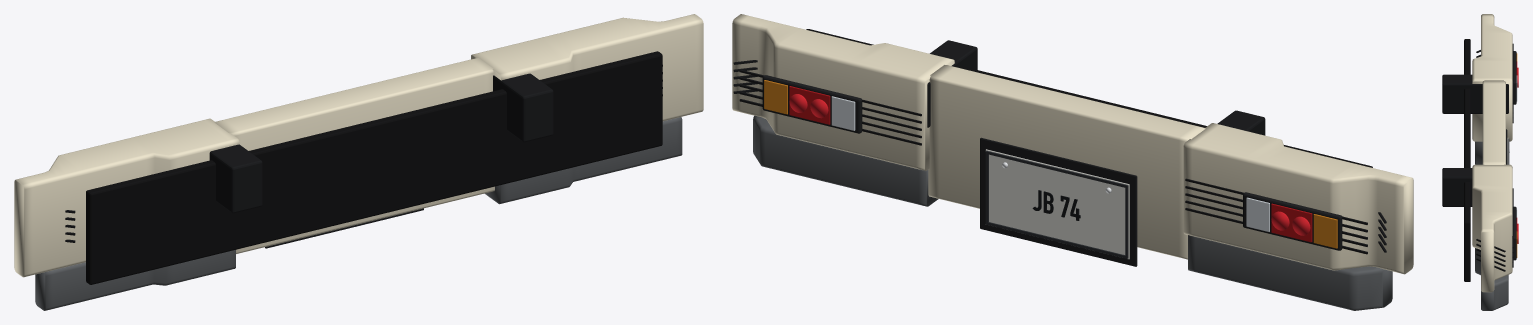
The model's file is rearBumper_damd_delta_rear.glb.
The picture shows the model from 3 angles, left to right: view 1: azimuth 30°, elevation 25°; view 2: azimuth 150°, elevation 25°; view 3: azimuth 270°, elevation 25°; orthographic projection. The views are drawn at different scales.
Visible parts, largest first — view 1: valance.003, block-1.001, centre, block1.001, lip-1, lip1, mount1.003, mount-1.003; view 2: centre, block-1.001, block1.001, plate.006, lip-1, lip1, plateRecess, grooves1, grooves-1, lampCase-1, lampCase1, valance.003 (+11 smaller); view 3: block1.001, block-1.001, centre, valance.003, mount-1.003, mount1.003, lip1, grooves1, lampCase1, lampCase-1, lip-1, grooves-1 (+1 smaller).
Boxes of the visible parts, left/top/right/bottom form: valance.003: left=86, top=51, right=662, bottom=284; block-1.001: left=14, top=118, right=239, bottom=277; centre: left=214, top=58, right=494, bottom=253; block1.001: left=471, top=14, right=703, bottom=121; lip-1: left=35, top=250, right=235, bottom=310; lip1: left=485, top=117, right=682, bottom=204; mount1.003: left=493, top=73, right=553, bottom=142; mount-1.003: left=209, top=144, right=262, bottom=213; centre: left=928, top=65, right=1205, bottom=259; block-1.001: left=1183, top=123, right=1413, bottom=274; block1.001: left=732, top=14, right=954, bottom=170; plate.006: left=985, top=149, right=1129, bottom=259; lip-1: left=1188, top=235, right=1392, bottom=310; lip1: left=753, top=115, right=938, bottom=206; plateRecess: left=980, top=137, right=1137, bottom=266; grooves1: left=733, top=60, right=921, bottom=145; grooves-1: left=1185, top=178, right=1386, bottom=254; lampCase-1: left=1243, top=192, right=1342, bottom=250; lampCase1: left=762, top=75, right=862, bottom=133; valance.003: left=806, top=29, right=1372, bottom=167; block1.001: left=1472, top=164, right=1512, bottom=292; block-1.001: left=1472, top=14, right=1512, bottom=141; centre: left=1482, top=80, right=1505, bottom=164; valance.003: left=1464, top=39, right=1470, bottom=281; mount-1.003: left=1442, top=74, right=1508, bottom=113; mount1.003: left=1442, top=168, right=1472, bottom=206; lip1: left=1475, top=248, right=1508, bottom=310; grooves1: left=1476, top=188, right=1513, bottom=271; lampCase1: left=1512, top=206, right=1516, bottom=260; lampCase-1: left=1512, top=51, right=1516, bottom=104; lip-1: left=1475, top=141, right=1507, bottom=164; grooves-1: left=1476, top=43, right=1513, bottom=123.
Size of the model in its own units: 1.54 by 0.305 by 0.228.
